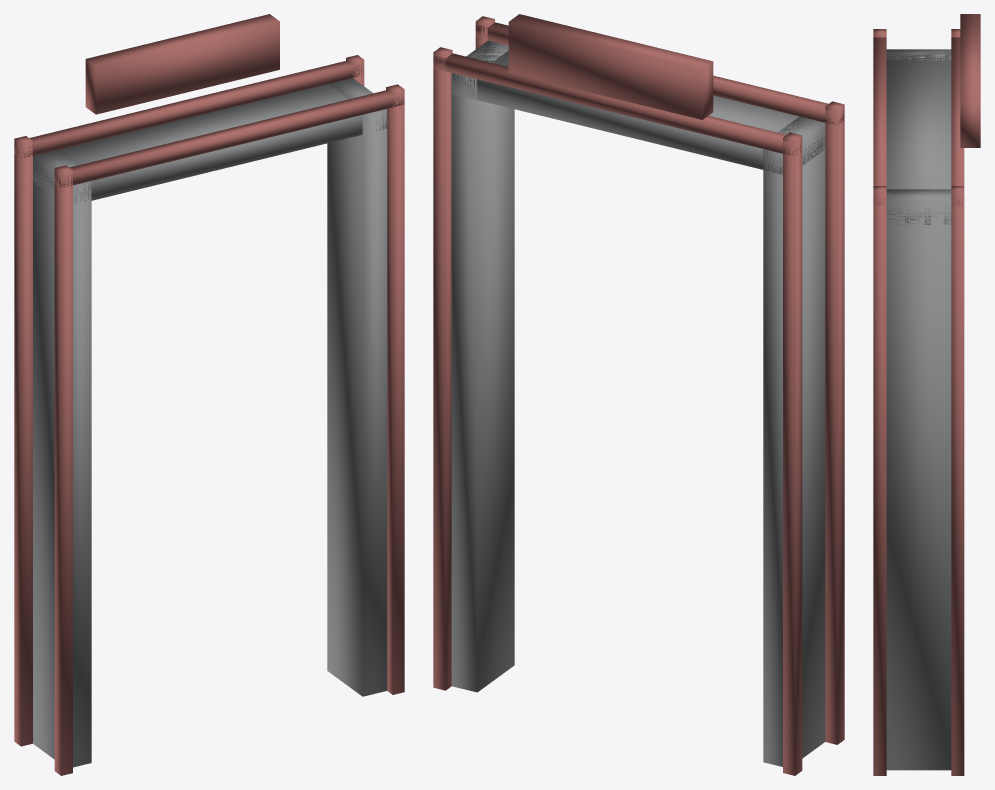
File: doorway_emergency_exit_w106_h210_d24.glb
3 renders of one model, left to right at view 1: azimuth 30°, elevation 25°; view 2: azimuth 150°, elevation 25°; view 3: azimuth 270°, elevation 25°, orthographic. The views are drawn at different scales.
Parts seen in each view (by area): view 1: world; view 2: world; view 3: world.
Part boxes in pixels (bbox=[...]): world: bbox=[14, 14, 404, 775]; world: bbox=[433, 14, 844, 775]; world: bbox=[873, 14, 980, 775].
Size of the model in its own units: 1.34 by 2.46 by 0.3739.
